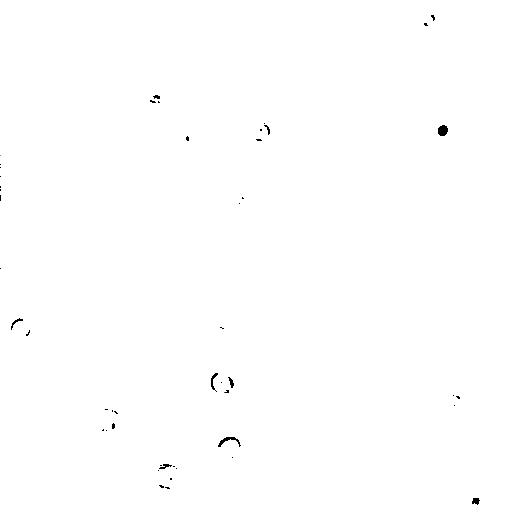micro-algae: (51, 43, 108, 96), (421, 107, 464, 150), (89, 403, 125, 438), (117, 295, 154, 327), (457, 481, 496, 511), (170, 116, 202, 151), (211, 171, 241, 208), (441, 374, 474, 407), (413, 3, 444, 35), (149, 460, 183, 487), (214, 432, 244, 461), (204, 368, 235, 396), (151, 396, 187, 420), (7, 314, 32, 340), (229, 0, 271, 15), (249, 117, 269, 140)
